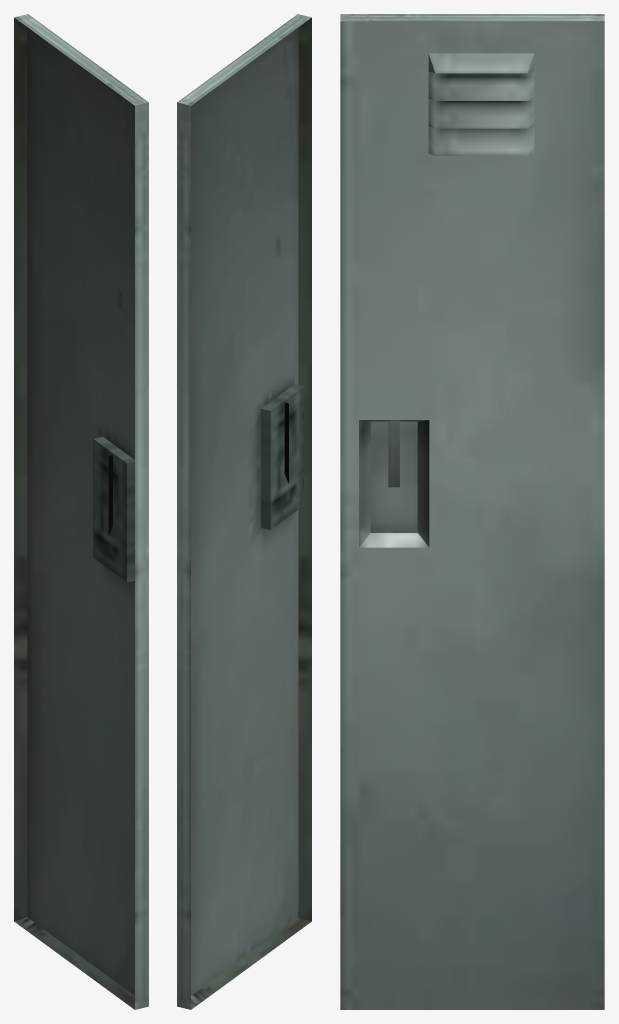
Rendered from lockerdoorright.glb.
The picture shows the model from 3 angles, left to right: view 1: azimuth 30°, elevation 25°; view 2: azimuth 150°, elevation 25°; view 3: azimuth 270°, elevation 25°; orthographic projection. The views are drawn at different scales.
Parts seen in each view (by area): view 1: 0_lockers_sheet; view 2: 0_lockers_sheet; view 3: 0_lockers_sheet.
Boxes of the visible parts, x1,y1,x2,y2 form: 0_lockers_sheet: (14, 14, 148, 1009); 0_lockers_sheet: (177, 14, 311, 1009); 0_lockers_sheet: (340, 14, 604, 1009).
Size of the model in its own units: 0.0474 by 1.57 by 0.3813.
Materials: 1 (1 with a texture image).
